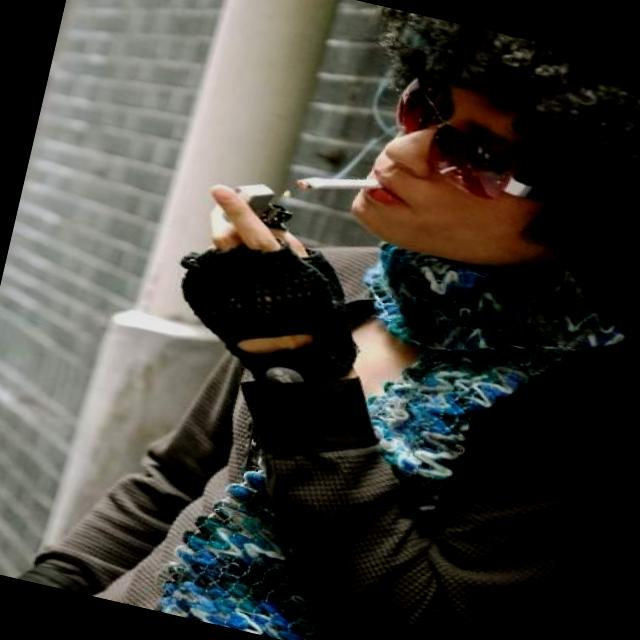smoke: (295, 160, 379, 208)
